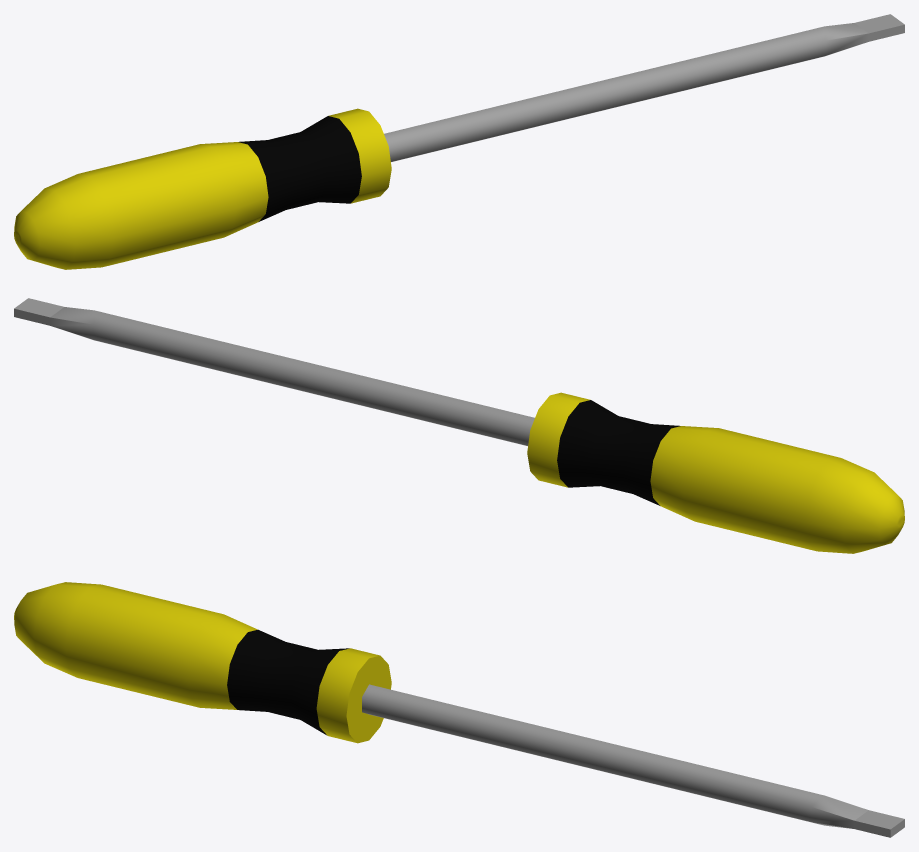
Rendered from Screwdriver.fbx.
3 renders of one model, top to bottom at view 1: azimuth 30°, elevation 25°; view 2: azimuth 150°, elevation 25°; view 3: azimuth 330°, elevation 25°, orthographic.
Visible parts, largest first — view 1: Screwdriver; view 2: Screwdriver; view 3: Screwdriver.
Boxes of the visible parts, x1,y1,x2,y2 form: Screwdriver: (14, 14, 904, 269); Screwdriver: (14, 298, 904, 553); Screwdriver: (14, 582, 904, 837).
Bounding box in the file's own units: 0.31 × 0.0295 × 0.0295.
